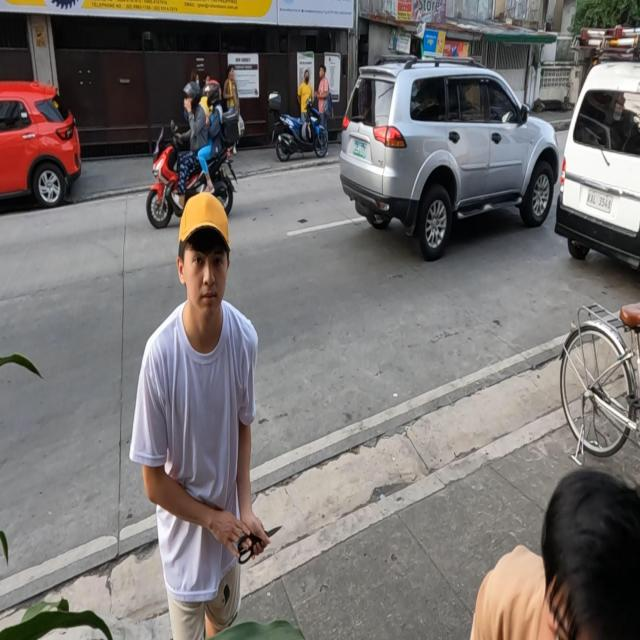scissor: (237, 524, 280, 565)
